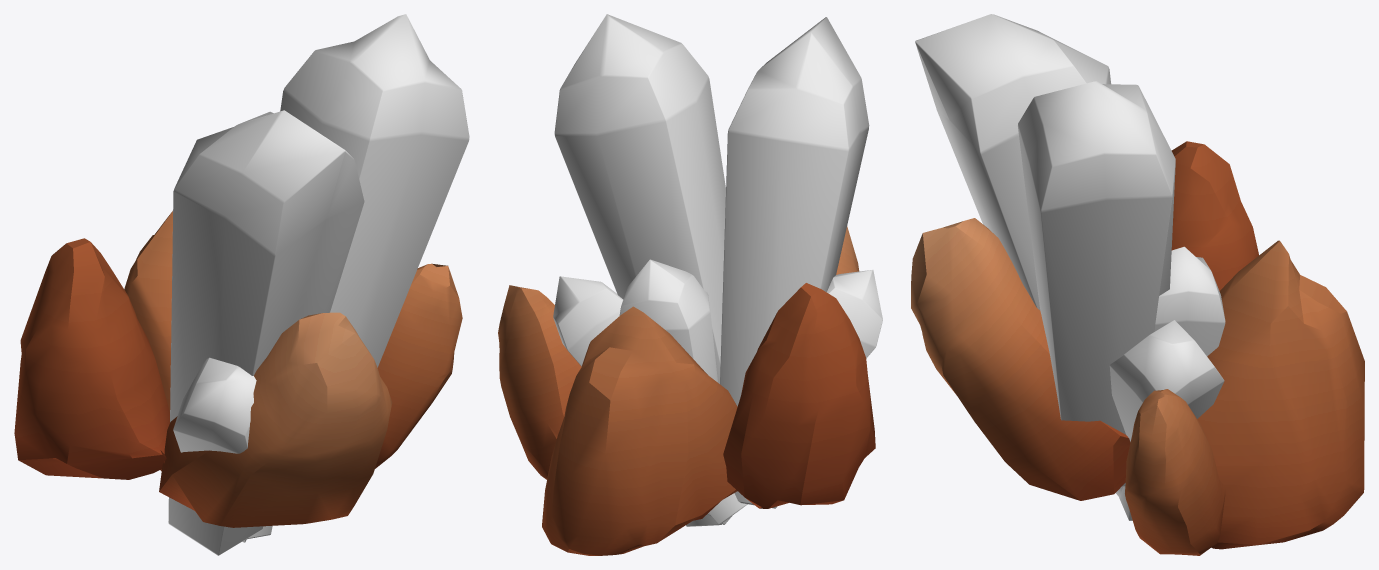
File: GemDeposit3S.glb
The picture shows the model from 3 angles, left to right: view 1: azimuth 30°, elevation 25°; view 2: azimuth 150°, elevation 25°; view 3: azimuth 270°, elevation 25°; orthographic projection. The views are drawn at different scales.
Visible parts, largest first — view 1: Cube.002; view 2: Cube.002; view 3: Cube.002.
Boxes of the visible parts, box(x1,y1,x2,y2) form: Cube.002: box(14, 14, 469, 555); Cube.002: box(498, 14, 882, 555); Cube.002: box(911, 14, 1364, 555).
Bounding box in the file's own units: 2.19 × 2.55 × 2.11.
2 materials, 1 textured.
